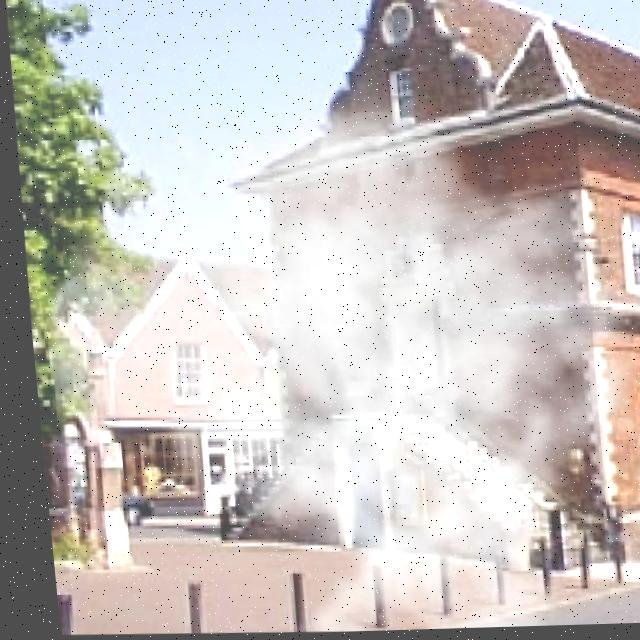Smoke: (21, 50, 640, 634)
